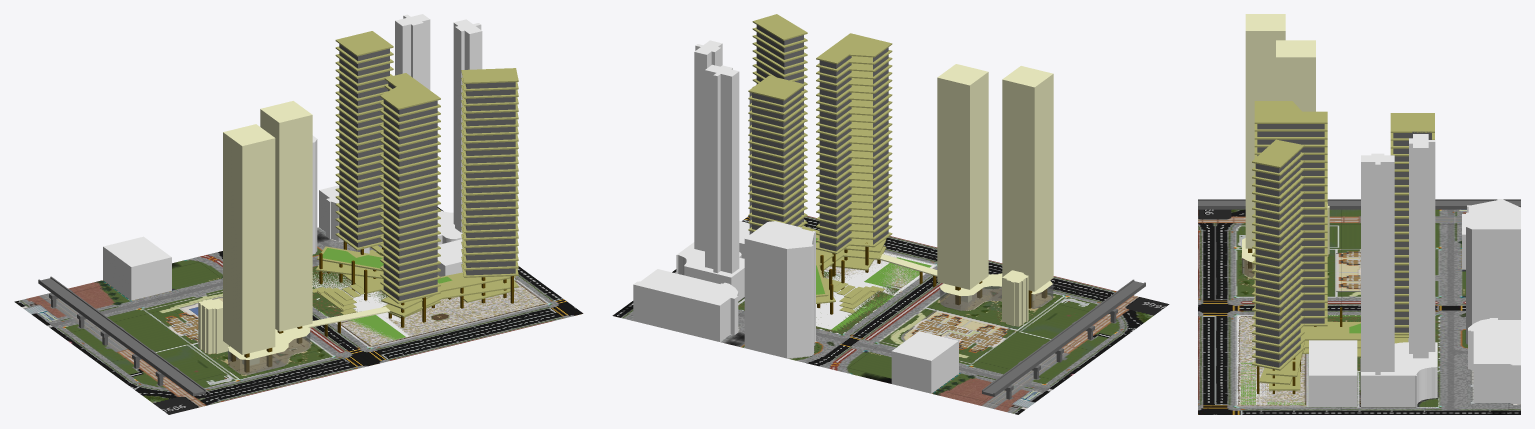
3 views of the same model, side by side, from view 1: azimuth 30°, elevation 25°; view 2: azimuth 150°, elevation 25°; view 3: azimuth 270°, elevation 25° (orthographic). The views are drawn at different scales.
Size of the model in its own units: 349 by 187 by 225.
Materials: 10 (2 with a texture image).
